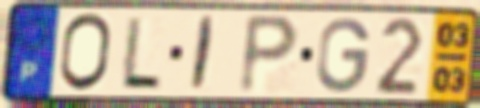2: (374, 15, 427, 98)
G: (314, 16, 373, 96)
I: (187, 13, 219, 94)
L: (117, 15, 165, 92)
O: (56, 11, 115, 95)
P: (235, 11, 302, 97)
